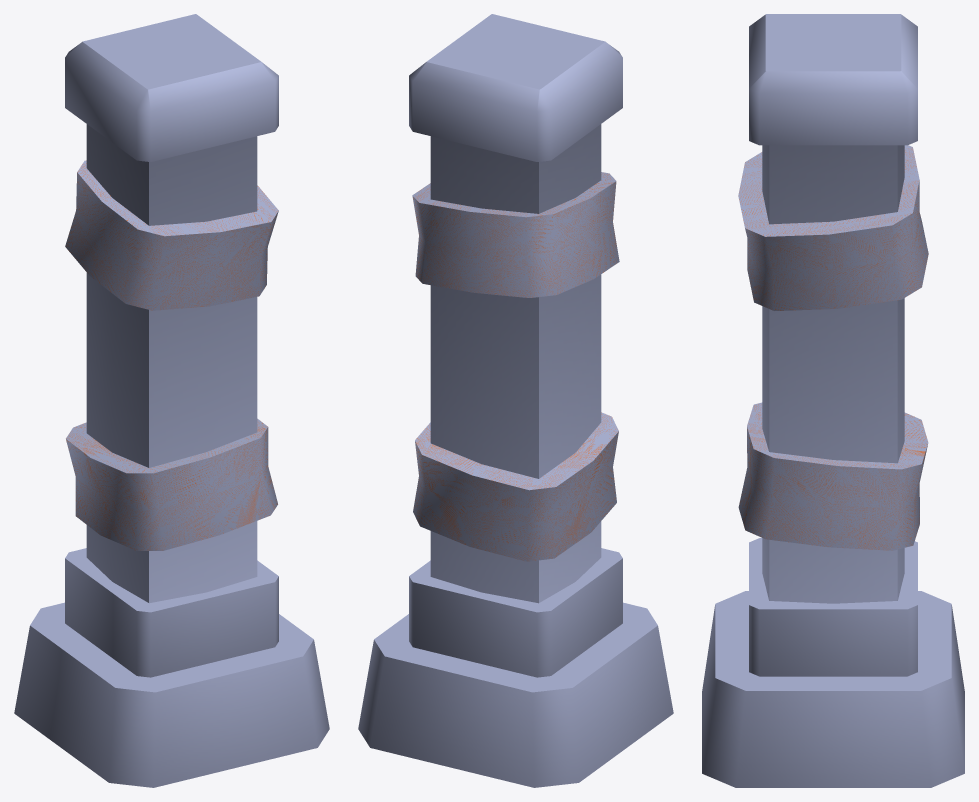
File: column-large_lev2.glb
3 renders of one model, left to right at view 1: azimuth 30°, elevation 25°; view 2: azimuth 150°, elevation 25°; view 3: azimuth 270°, elevation 25°, orthographic. The views are drawn at different scales.
Visible parts, largest first — view 1: column-large_lev2; view 2: column-large_lev2; view 3: column-large_lev2.
Boxes of the visible parts, x1,y1,x2,y2 form: column-large_lev2: (14,14,329,787); column-large_lev2: (358,14,673,787); column-large_lev2: (702,14,964,787).
Bounding box in the file's own units: 3.12 × 9.04 × 3.12.
1 material, 1 textured.
